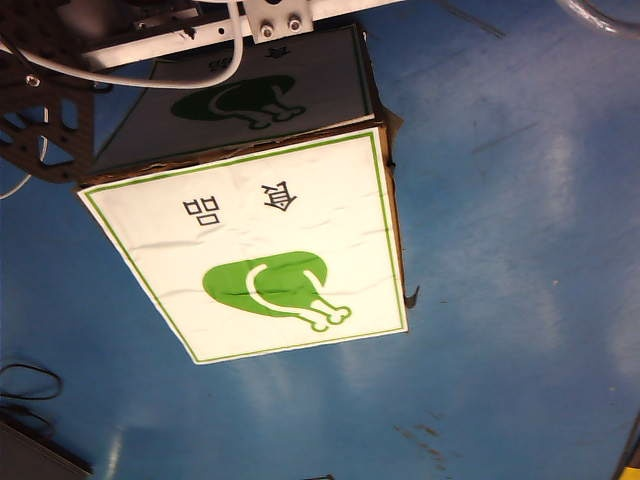Cube_food: (174, 173, 370, 336)
